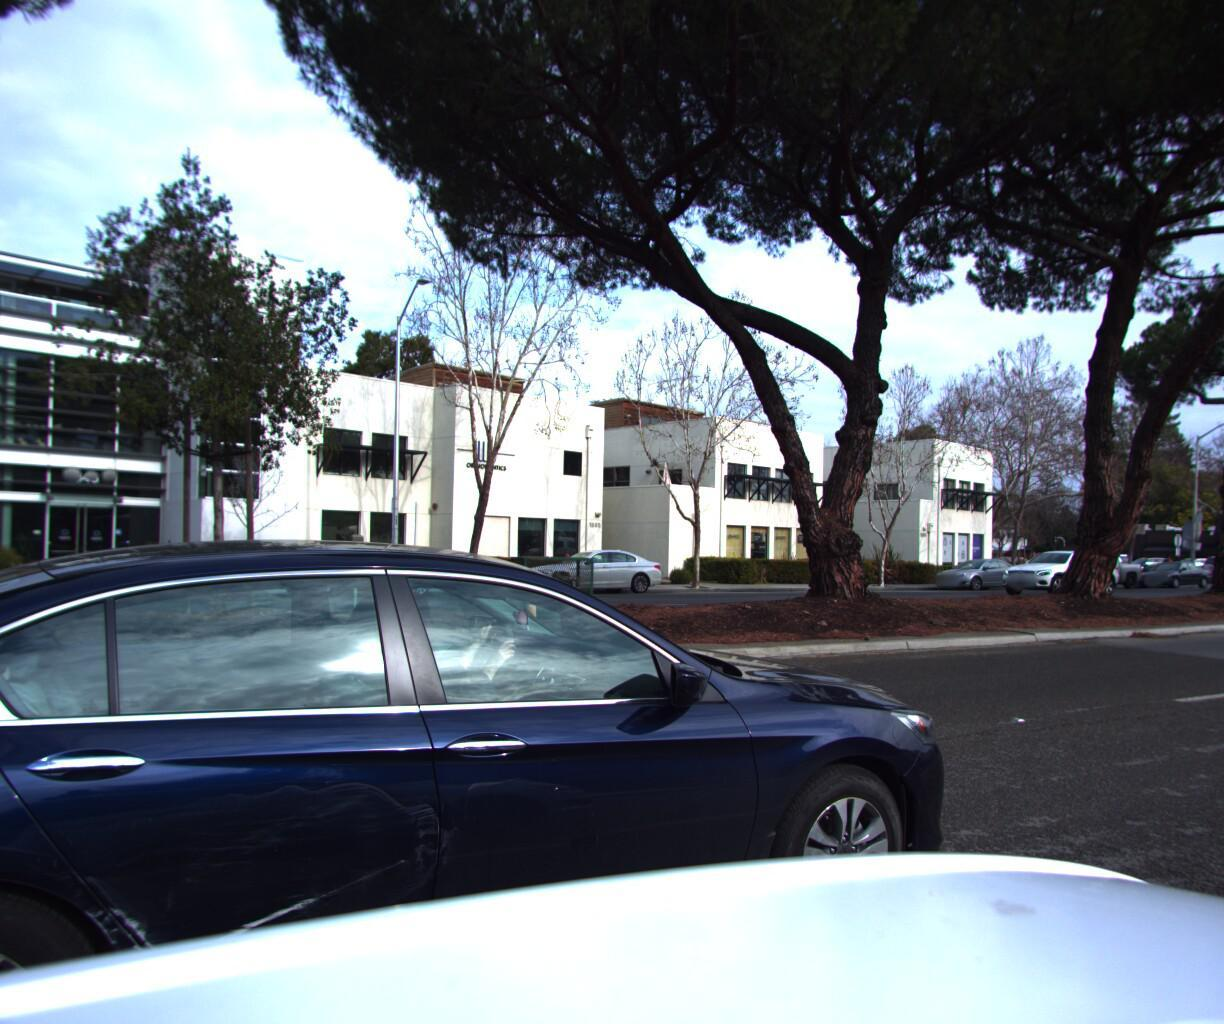car: (0, 526, 992, 1024), (273, 541, 453, 598), (504, 541, 669, 594), (989, 543, 1118, 593), (1026, 545, 1143, 588), (922, 551, 1029, 586), (1122, 555, 1211, 583), (1191, 547, 1224, 575)
